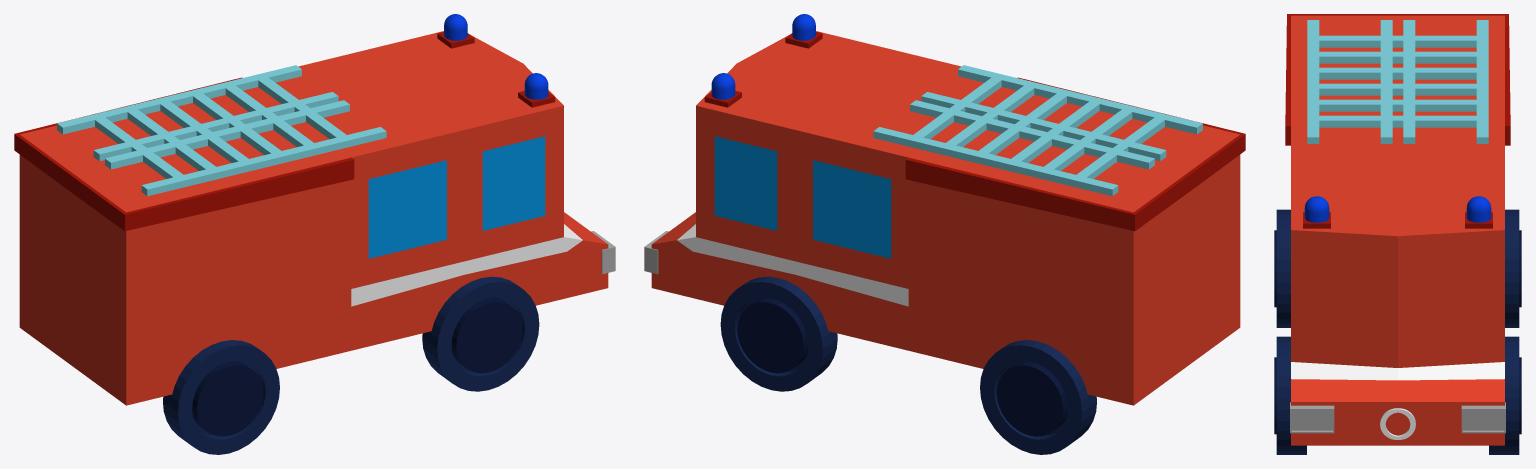
File: firecar.fbx
The picture shows the model from 3 angles, left to right: view 1: azimuth 30°, elevation 25°; view 2: azimuth 150°, elevation 25°; view 3: azimuth 270°, elevation 25°; orthographic projection.
Parts seen in each view (by area): view 1: Cube.001; view 2: Cube.001; view 3: Cube.001.
Boxes of the visible parts, <box> form: Cube.001: <box>14,14,615,454</box>; Cube.001: <box>644,14,1245,454</box>; Cube.001: <box>1274,14,1521,454</box>.
Bounding box in the file's own units: 534 × 295 × 231.
